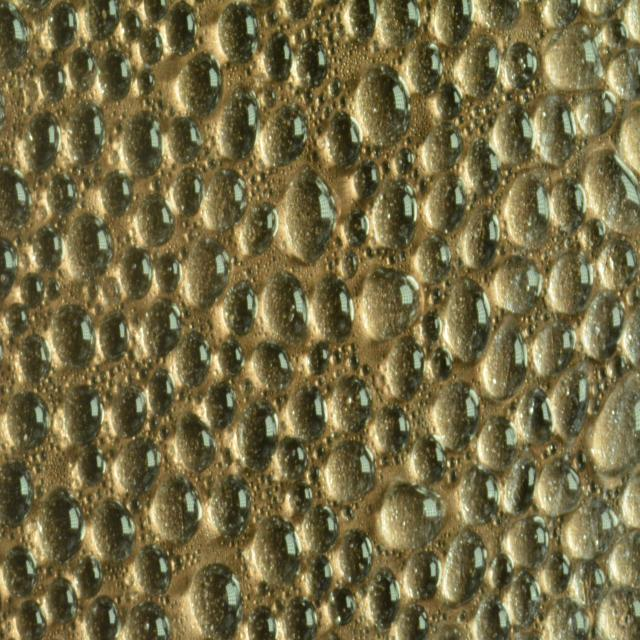dr: (281, 170, 337, 265), (592, 371, 640, 480), (584, 148, 640, 237), (355, 68, 413, 148), (361, 269, 423, 343), (540, 30, 604, 94), (192, 560, 243, 640), (383, 482, 447, 544), (446, 278, 490, 365), (432, 379, 482, 451), (506, 170, 552, 248), (262, 272, 311, 344), (443, 526, 487, 605), (486, 316, 527, 400), (40, 485, 85, 561), (185, 237, 231, 311), (152, 477, 204, 542), (65, 215, 115, 282), (372, 340, 426, 401), (236, 398, 280, 471), (551, 361, 591, 441), (325, 442, 376, 504), (493, 250, 541, 314), (375, 179, 418, 250), (311, 273, 355, 342), (51, 304, 96, 371), (177, 51, 224, 115), (255, 519, 302, 583), (564, 503, 617, 559), (583, 290, 626, 359), (118, 115, 168, 174), (533, 97, 575, 166), (219, 87, 259, 159), (260, 105, 307, 166), (204, 169, 247, 231), (94, 499, 137, 561), (7, 391, 50, 452), (216, 1, 258, 63), (21, 111, 62, 173), (211, 476, 252, 538), (493, 106, 535, 166), (63, 385, 104, 446), (114, 440, 163, 491), (535, 459, 582, 512), (462, 205, 499, 272), (458, 36, 499, 96), (426, 173, 466, 234), (530, 322, 576, 374), (177, 416, 218, 474), (461, 467, 500, 527), (66, 105, 107, 162), (141, 303, 183, 358), (595, 588, 640, 639), (504, 516, 548, 568), (242, 200, 280, 260), (1, 163, 32, 234), (250, 342, 294, 392), (332, 377, 372, 432), (288, 387, 328, 441), (174, 334, 213, 388), (540, 600, 592, 640), (2, 459, 33, 526), (1, 1, 29, 75), (424, 123, 464, 174), (137, 194, 176, 246), (380, 0, 423, 47), (373, 403, 411, 456), (478, 417, 516, 469), (468, 138, 503, 194), (223, 280, 258, 336), (600, 240, 639, 290), (368, 570, 401, 629), (135, 544, 172, 596), (521, 388, 554, 446), (338, 528, 373, 582), (97, 52, 131, 106), (408, 42, 444, 93), (112, 386, 148, 437), (328, 115, 362, 168), (302, 504, 338, 554), (610, 529, 640, 589), (573, 94, 618, 134), (554, 178, 586, 234), (18, 335, 53, 386), (618, 98, 640, 179), (31, 224, 65, 276), (509, 571, 540, 628), (3, 546, 39, 595), (126, 601, 171, 640), (435, 0, 474, 44), (504, 458, 535, 513), (173, 166, 206, 217), (417, 234, 452, 282), (475, 0, 524, 34), (405, 552, 441, 598), (119, 249, 152, 299), (167, 2, 197, 56), (296, 38, 329, 87), (101, 170, 134, 218), (44, 577, 80, 621), (86, 595, 121, 640), (205, 382, 238, 429), (67, 44, 98, 94), (170, 114, 202, 162), (344, 0, 378, 45), (99, 310, 129, 361), (608, 49, 640, 96), (48, 2, 78, 52), (284, 596, 318, 640), (263, 32, 294, 80), (507, 40, 538, 88), (415, 436, 446, 484), (81, 1, 121, 38), (475, 598, 510, 640), (47, 173, 79, 218), (277, 435, 309, 477), (574, 561, 605, 604), (148, 367, 175, 416), (76, 445, 107, 487), (14, 600, 46, 640), (396, 603, 429, 640), (156, 250, 182, 296), (40, 62, 68, 104), (621, 466, 640, 527), (287, 476, 312, 522), (328, 586, 356, 627), (434, 82, 463, 121), (77, 554, 102, 599), (217, 338, 245, 378), (1, 238, 18, 301), (19, 272, 46, 310), (538, 0, 579, 25), (356, 157, 380, 199), (308, 555, 333, 595), (248, 607, 278, 640), (343, 207, 369, 245), (491, 549, 514, 588), (308, 340, 330, 378), (627, 306, 640, 370), (431, 344, 453, 381), (140, 30, 163, 64), (120, 8, 142, 42), (7, 303, 29, 337), (281, 0, 313, 22), (581, 0, 627, 14), (422, 310, 442, 342), (395, 146, 414, 178), (136, 67, 156, 97), (606, 22, 629, 48), (102, 278, 121, 308), (341, 248, 359, 278), (627, 0, 640, 41), (144, 0, 168, 22), (586, 216, 602, 248), (24, 80, 40, 104), (21, 0, 51, 12), (261, 87, 278, 108), (44, 278, 60, 300), (627, 285, 640, 306), (86, 280, 99, 300), (329, 76, 342, 95), (347, 353, 360, 372), (222, 446, 234, 466), (130, 495, 142, 515), (151, 175, 163, 194), (275, 596, 287, 615), (356, 584, 370, 600), (264, 10, 277, 27), (379, 160, 392, 177), (33, 15, 46, 32), (309, 464, 321, 482), (159, 424, 171, 441), (258, 579, 270, 596), (35, 45, 47, 62), (614, 358, 626, 374), (303, 88, 314, 105), (364, 244, 374, 262), (172, 555, 184, 570), (342, 507, 354, 522), (577, 452, 586, 472), (0, 95, 5, 131), (332, 349, 342, 366), (453, 255, 463, 272), (91, 164, 103, 178), (131, 314, 140, 332), (140, 367, 150, 383), (432, 289, 443, 303), (316, 443, 325, 460), (525, 323, 536, 336), (149, 417, 159, 431), (584, 25, 594, 39), (208, 157, 219, 169), (82, 178, 93, 190), (166, 105, 176, 118), (156, 98, 166, 110), (181, 247, 189, 262), (33, 487, 43, 499), (380, 455, 390, 467), (594, 381, 602, 396), (496, 244, 506, 256), (186, 231, 195, 244), (84, 491, 93, 504), (45, 565, 54, 578), (447, 456, 456, 469), (267, 472, 274, 488), (338, 98, 348, 109), (371, 41, 381, 52), (482, 104, 492, 115), (449, 470, 458, 482), (509, 402, 518, 414), (325, 19, 333, 32), (248, 173, 256, 186), (593, 398, 601, 411), (94, 305, 104, 315), (565, 238, 574, 249), (23, 106, 34, 115), (550, 441, 557, 455), (128, 352, 136, 364), (376, 543, 384, 555), (50, 50, 58, 62), (420, 180, 427, 193), (196, 393, 203, 406), (109, 447, 116, 460), (387, 255, 396, 265), (499, 232, 508, 242), (71, 165, 79, 176), (506, 92, 514, 103), (100, 370, 107, 382), (180, 390, 187, 402), (591, 482, 598, 494), (614, 486, 621, 498), (582, 137, 589, 149), (324, 107, 332, 117), (266, 190, 274, 200), (264, 490, 272, 500), (327, 433, 333, 446), (116, 595, 122, 608), (260, 171, 266, 183), (192, 221, 200, 230), (232, 256, 238, 268), (106, 390, 112, 402), (134, 362, 142, 371), (0, 384, 6, 396), (394, 455, 400, 467), (543, 249, 549, 261), (329, 32, 336, 42), (413, 169, 420, 179), (91, 377, 98, 387), (317, 378, 324, 388), (541, 450, 548, 460), (460, 113, 466, 124), (604, 380, 610, 391), (317, 96, 325, 104), (459, 611, 467, 619), (109, 369, 116, 378), (8, 336, 15, 345), (535, 31, 544, 38), (330, 44, 336, 54), (466, 125, 472, 135), (35, 190, 41, 200), (126, 233, 132, 243), (76, 488, 82, 498), (124, 592, 130, 602), (311, 152, 318, 160), (399, 252, 406, 260), (183, 220, 190, 228), (474, 107, 480, 116), (259, 507, 265, 516), (536, 614, 545, 620), (606, 490, 612, 499), (475, 120, 480, 130), (35, 464, 40, 474), (333, 70, 340, 77), (250, 189, 256, 197), (87, 301, 93, 309), (169, 549, 175, 557), (441, 614, 447, 622), (12, 121, 16, 133), (10, 68, 16, 76), (29, 70, 35, 78), (397, 55, 402, 64), (38, 178, 43, 187), (601, 369, 606, 378), (488, 121, 494, 128), (16, 71, 22, 78), (199, 34, 203, 44), (333, 56, 338, 64), (18, 236, 22, 246), (497, 102, 502, 110), (287, 589, 291, 598), (81, 167, 86, 174), (9, 387, 14, 394), (612, 376, 616, 384), (319, 126, 322, 136), (348, 50, 353, 56), (576, 146, 581, 152), (8, 82, 13, 88), (81, 201, 85, 208), (189, 396, 193, 403), (480, 127, 484, 134), (526, 93, 530, 100), (546, 267, 550, 274), (12, 378, 16, 384), (431, 615, 435, 621), (167, 183, 170, 190), (338, 59, 342, 64), (3, 76, 8, 80), (402, 48, 405, 54)
